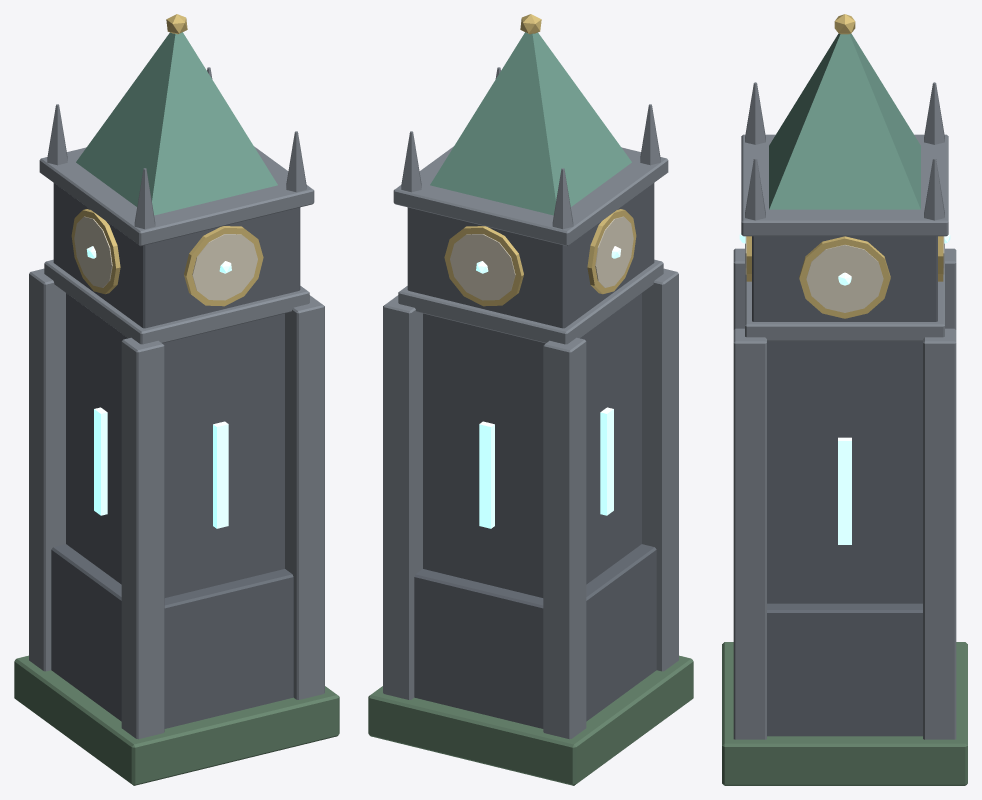
File: outdoor_clocktower.glb
3 renders of one model, left to right at view 1: azimuth 30°, elevation 25°; view 2: azimuth 150°, elevation 25°; view 3: azimuth 270°, elevation 25°, orthographic. The views are drawn at different scales.
Visible parts, largest first — view 1: Outdoor_Clocktower; view 2: Outdoor_Clocktower; view 3: Outdoor_Clocktower.
Part boxes in pixels (bbox=[...]): Outdoor_Clocktower: bbox=[14, 14, 339, 785]; Outdoor_Clocktower: bbox=[368, 14, 693, 785]; Outdoor_Clocktower: bbox=[722, 14, 967, 785].
Bounding box in the file's own units: 4.76 × 15.41 × 4.76.
